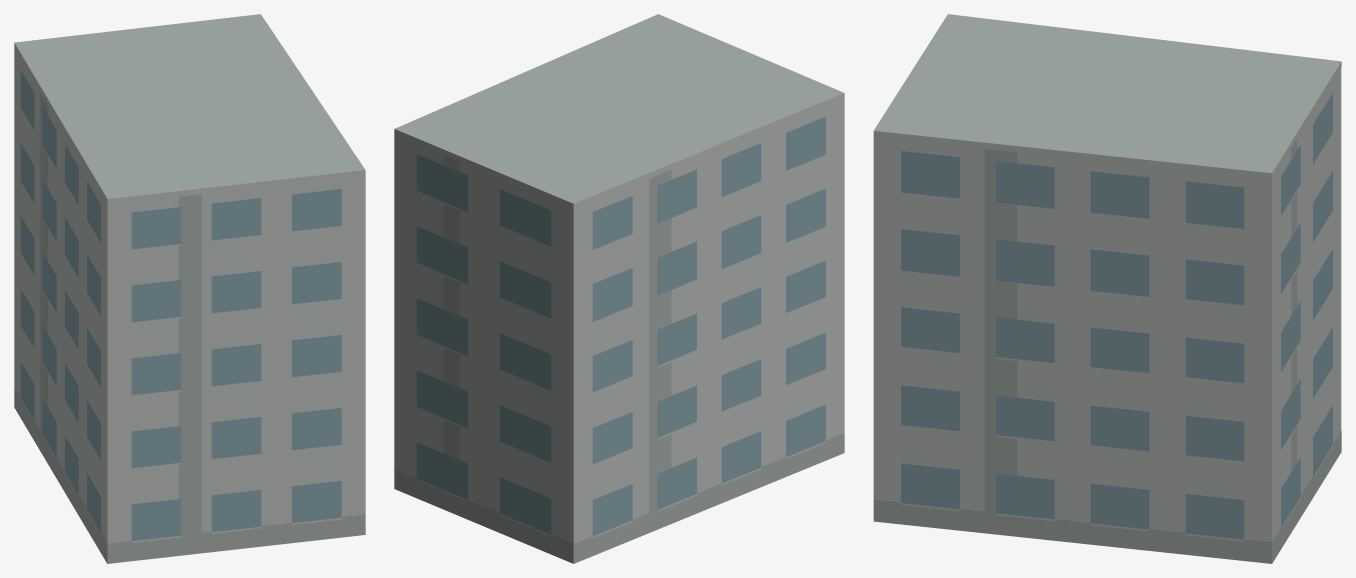
The model's file is survey-upis-32758585.glb.
The picture shows the model from 3 angles, left to right: view 1: azimuth 30°, elevation 25°; view 2: azimuth 150°, elevation 25°; view 3: azimuth 270°, elevation 25°; orthographic projection. The views are drawn at different scales.
Parts seen in each view (by area): view 1: survey-upis-32758585.tmp; view 2: survey-upis-32758585.tmp; view 3: survey-upis-32758585.tmp.
Part boxes in pixels (x1=…): survey-upis-32758585.tmp: x1=14, y1=14, x2=365, y2=563; survey-upis-32758585.tmp: x1=394, y1=14, x2=844, y2=563; survey-upis-32758585.tmp: x1=873, y1=14, x2=1341, y2=563.
Bounding box in the file's own units: 13.34 × 15.25 × 16.56.
